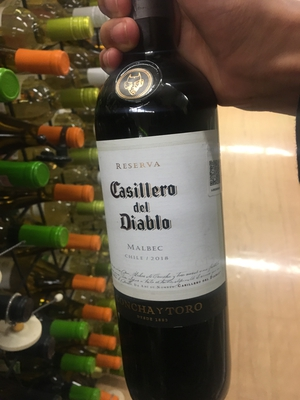casillero del diablo malbec: (78, 9, 257, 400)
